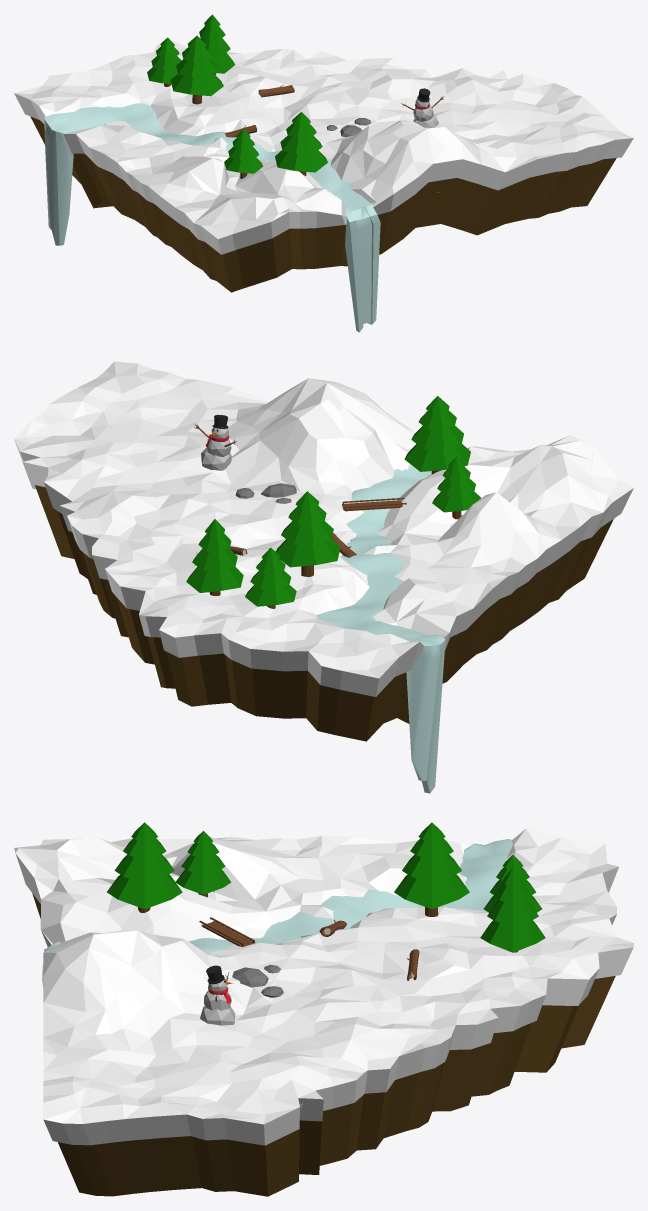
3 renders of one model, top to bottom at view 1: azimuth 30°, elevation 25°; view 2: azimuth 150°, elevation 25°; view 3: azimuth 270°, elevation 25°, orthographic. The views are drawn at different scales.
Visible parts, largest first — view 1: Plane, Plane.003, Plane.002, Cone, Cone.009, Cone.010, Cone.001, Cone.004; view 2: Plane, Plane.003, Plane.002, Cone.009, Cone, Cone.017, Cone.010, Cone.001, Cone.013, Cone.018, Cone.004; view 3: Plane, Plane.003, Plane.002, Cone.009, Cone, Cone.017, Cone.010, Cone.001, Cone.018, Cone.004, Cone.002, Cone.011 (+4 smaller).
Part boxes in pixels (x1,y1,x2,y2): Plane: (14,39,633,254); Plane.003: (30,116,616,292); Plane.002: (44,103,380,332); Cone: (275,150,327,172); Cone.009: (170,74,223,96); Cone.010: (176,59,218,78); Cone.001: (280,135,322,154); Cone.004: (224,157,263,173); Plane: (14,361,633,696); Plane.003: (35,485,613,741); Plane.002: (316,465,445,793); Cone.009: (275,539,340,567); Cone: (404,443,470,471); Cone.017: (186,567,243,592); Cone.010: (281,521,333,544); Cone.001: (411,425,463,449); Cone.013: (245,585,296,606); Cone.018: (192,548,237,571); Cone.004: (432,492,480,512); Plane: (14,828,633,1145); Plane.003: (32,893,615,1196); Plane.002: (42,839,512,986); Cone.009: (394,874,469,909); Cone: (107,874,182,909); Cone.017: (480,920,545,952); Cone.010: (402,854,461,883); Cone.001: (114,854,174,883); Cone.018: (487,900,538,927); Cone.004: (175,869,231,894); Cone.002: (123,838,166,860); Cone.011: (410,838,453,860).
Size of the model in its own units: 20.14 by 9.29 by 18.46.
